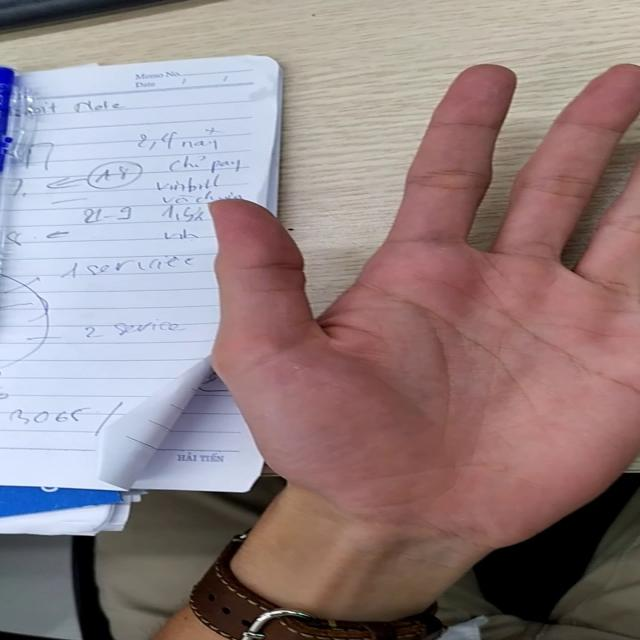hand: (206, 61, 640, 536)
